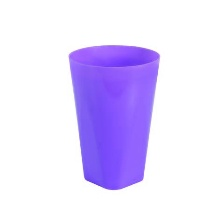glass: (62, 37, 168, 192)
